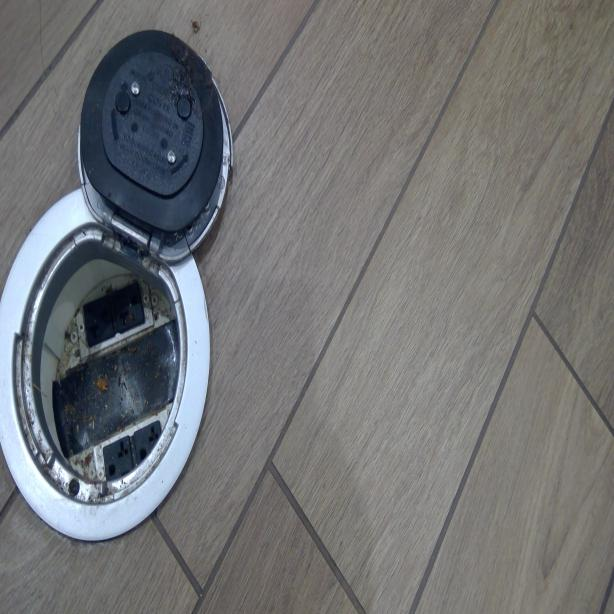typeb: (105, 438, 133, 484), (135, 424, 160, 465), (114, 290, 141, 324), (84, 304, 112, 336)
